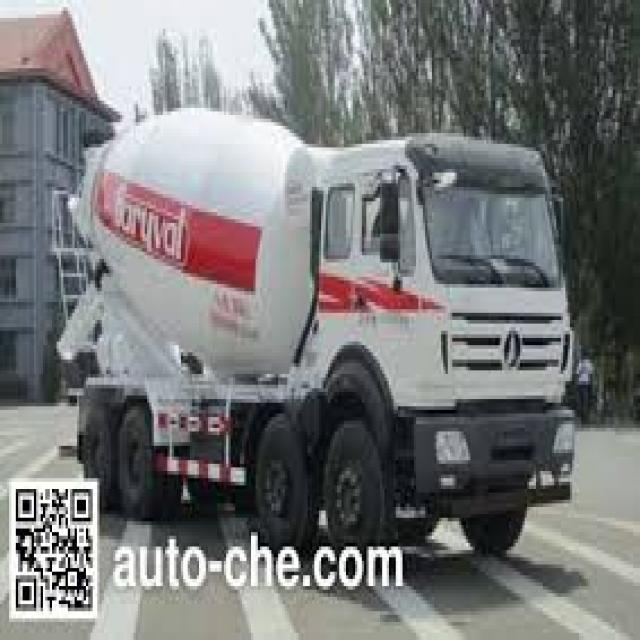Mixer Truck: (49, 99, 577, 581)
